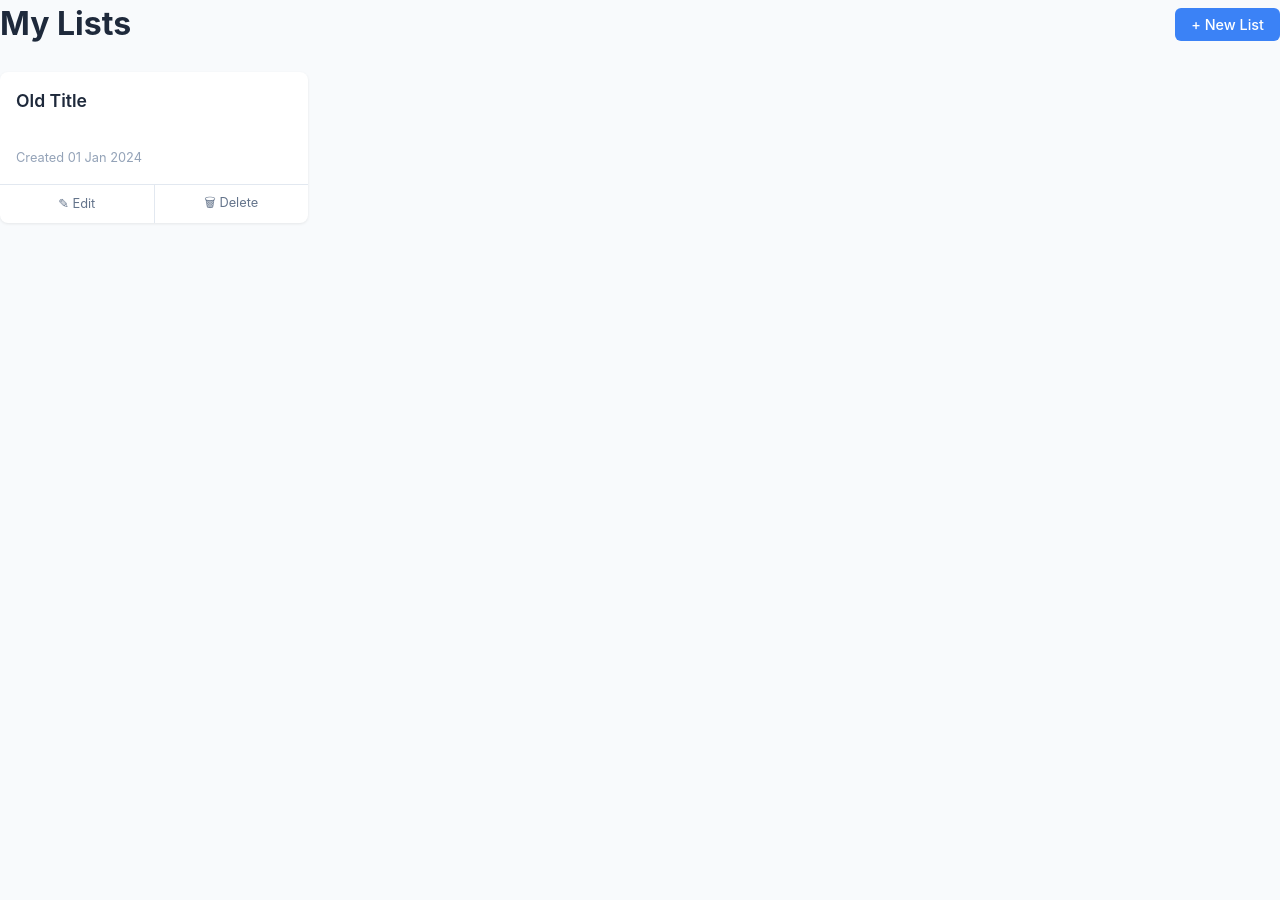
Test: DashboardView › focuses edit input after opening edit modal
The width and height of the screenshot is (1280, 900).
Click the button with class "card-action-btn" showing "✎ Edit".
click(77, 204)  # box [0,185,154,223]
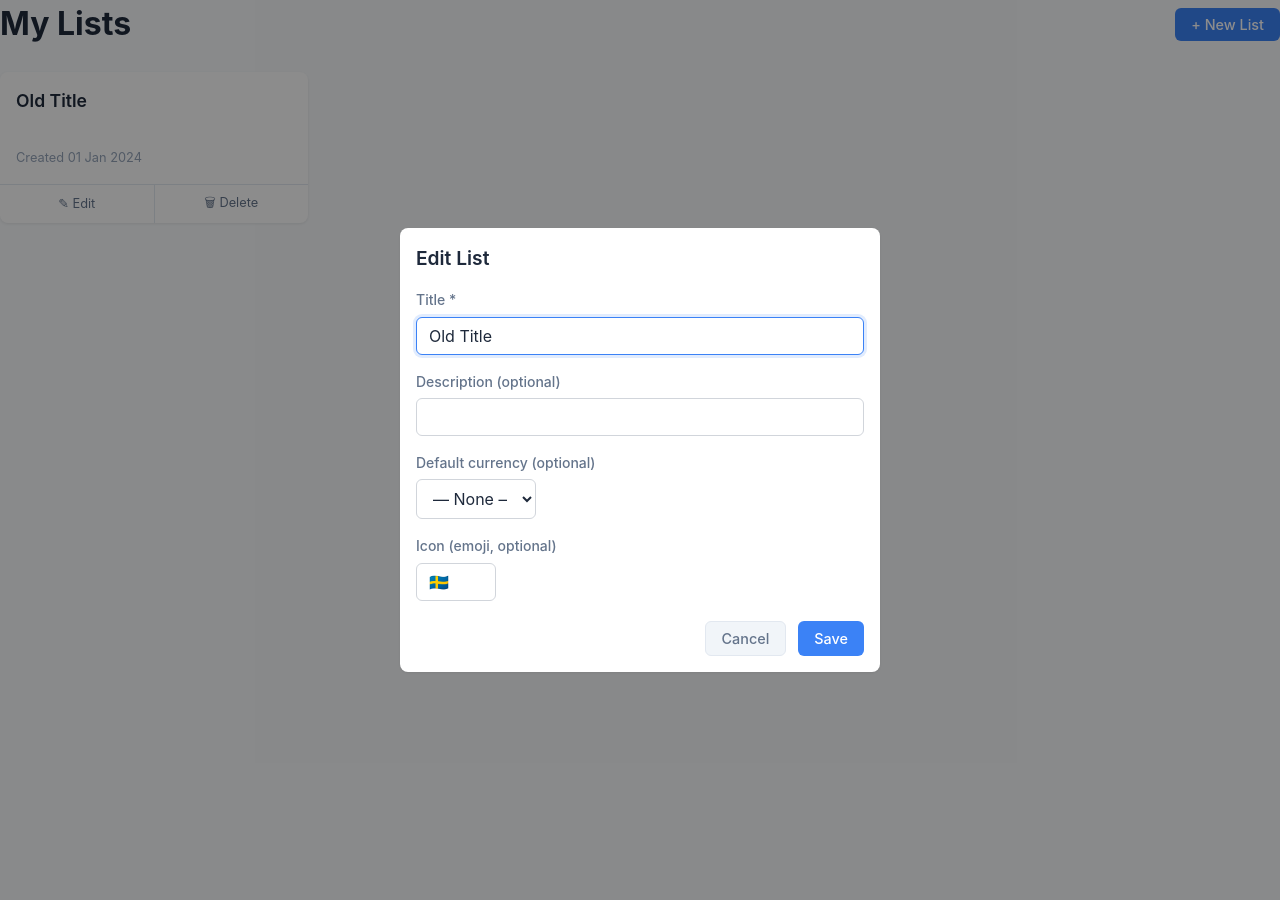
Check: the field below "Title *" holds "Old Title", box [416,316,864,354]
